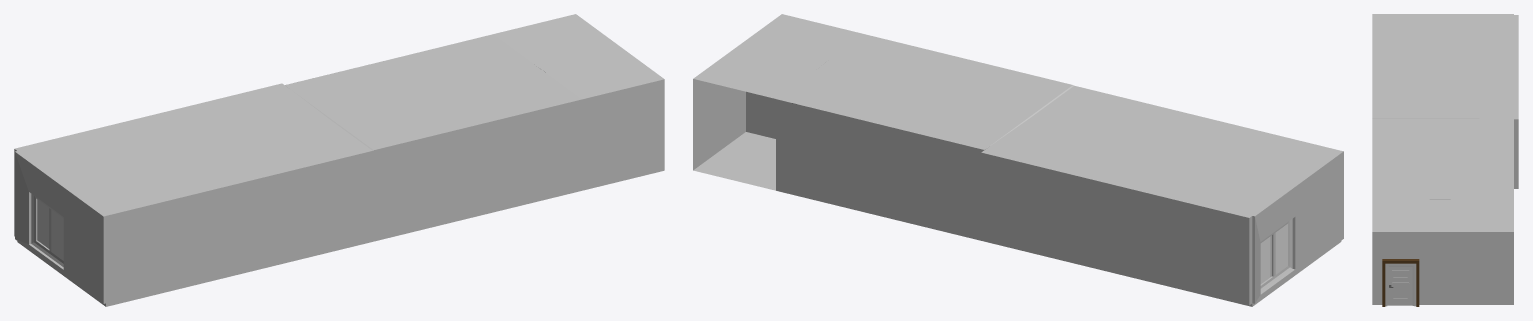
File: インタラクティブシステ_部屋.fbx
The picture shows the model from 3 angles, left to right: view 1: azimuth 30°, elevation 25°; view 2: azimuth 150°, elevation 25°; view 3: azimuth 270°, elevation 25°; orthographic projection. The views are drawn at different scales.
Parts seen in each view (by area): view 1: 部屋, 床, ベランダ枠.003, ベランダ枠.001; view 2: 部屋, ベランダ枠.003, 床, ベランダ枠.001; view 3: 部屋, ドア4, ドア枠4.
Part boxes in pixels (bbox=[...]): 部屋: bbox=[14, 14, 664, 303]; 床: bbox=[17, 238, 373, 306]; ベランダ枠.003: bbox=[49, 208, 63, 260]; ベランダ枠.001: bbox=[37, 199, 49, 248]; 部屋: bbox=[693, 14, 1343, 305]; ベランダ枠.003: bbox=[1272, 224, 1287, 276]; 床: bbox=[984, 241, 1341, 306]; ベランダ枠.001: bbox=[1260, 235, 1271, 283]; 部屋: bbox=[1372, 14, 1518, 304]; ドア4: bbox=[1387, 265, 1414, 305]; ドア枠4: bbox=[1382, 259, 1419, 306].
Size of the model in its own units: 3897 by 612 by 1094.
